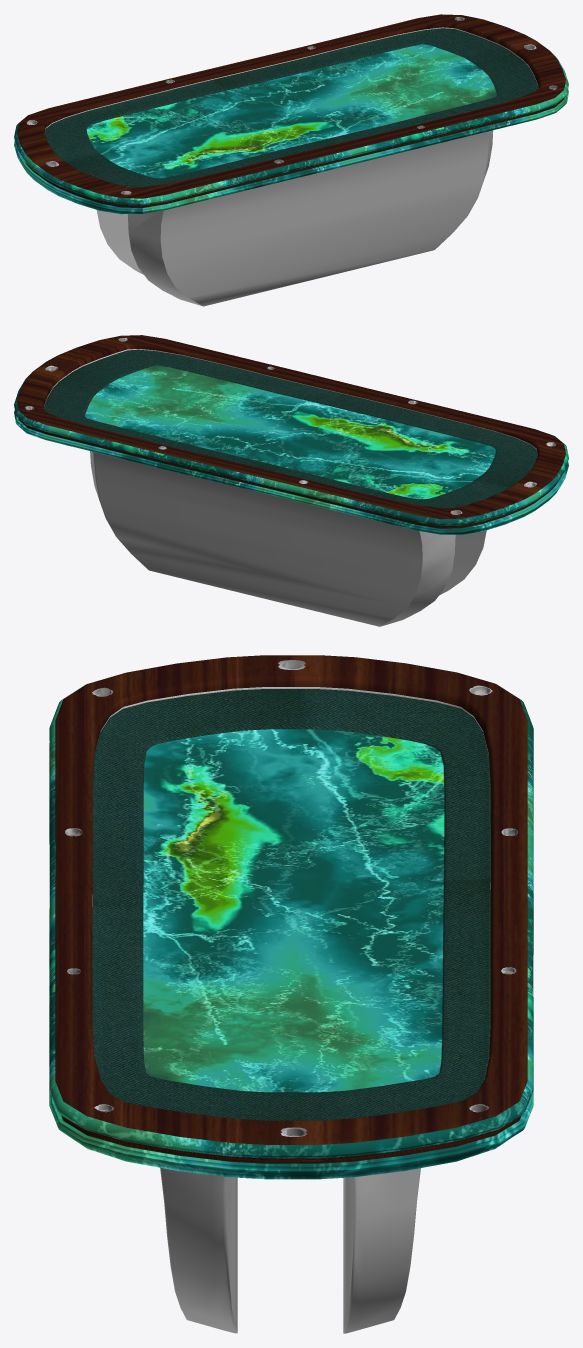
File: leonard-garcia-table.glb
3 views of the same model, one above another, from view 1: azimuth 30°, elevation 25°; view 2: azimuth 150°, elevation 25°; view 3: azimuth 270°, elevation 25° (orthographic). The views are drawn at different scales.
Parts seen in each view (by area): view 1: Table_Legs_UV_Metal_Legs_0, Table_Top_Dup_aiStandardSurface1_0, Table_Top_Dup_Wood_Top_Mat_0, Table_Top_Dup_Green_Tweed_Top_0, Table_Top_Dup_Wood_Trim_0, Table_Top_Dup_Border_Blach_0; view 2: Table_Legs_UV_Metal_Legs_0, Table_Top_Dup_aiStandardSurface1_0, Table_Top_Dup_Wood_Top_Mat_0, Table_Top_Dup_Green_Tweed_Top_0, Table_Top_Dup_Wood_Trim_0, Table_Top_Dup_Border_Blach_0; view 3: Table_Top_Dup_aiStandardSurface1_0, Table_Top_Dup_Green_Tweed_Top_0, Table_Top_Dup_Wood_Top_Mat_0, Table_Legs_UV_Metal_Legs_0, Table_Top_Dup_Wood_Trim_0, Table_Top_Dup_Cup_Holder1_0, Table_Top_Dup_Border_Blach_0.
Part boxes in pixels (<box>): Table_Legs_UV_Metal_Legs_0: <box>96,130,493,306</box>; Table_Top_Dup_aiStandardSurface1_0: <box>14,14,568,214</box>; Table_Top_Dup_Wood_Top_Mat_0: <box>17,14,565,198</box>; Table_Top_Dup_Green_Tweed_Top_0: <box>45,28,538,187</box>; Table_Top_Dup_Wood_Trim_0: <box>26,98,564,207</box>; Table_Top_Dup_Border_Blach_0: <box>44,27,538,133</box>; Table_Legs_UV_Metal_Legs_0: <box>90,451,486,626</box>; Table_Top_Dup_aiStandardSurface1_0: <box>14,363,568,534</box>; Table_Top_Dup_Wood_Top_Mat_0: <box>17,335,565,519</box>; Table_Top_Dup_Green_Tweed_Top_0: <box>44,349,537,507</box>; Table_Top_Dup_Wood_Trim_0: <box>18,418,556,528</box>; Table_Top_Dup_Border_Blach_0: <box>43,349,536,449</box>; Table_Top_Dup_aiStandardSurface1_0: <box>49,684,533,1179</box>; Table_Top_Dup_Green_Tweed_Top_0: <box>92,689,490,1120</box>; Table_Top_Dup_Wood_Top_Mat_0: <box>55,655,527,1162</box>; Table_Legs_UV_Metal_Legs_0: <box>143,827,444,1333</box>; Table_Top_Dup_Wood_Trim_0: <box>61,1116,521,1163</box>; Table_Top_Dup_Cup_Holder1_0: <box>65,660,517,1136</box>; Table_Top_Dup_Border_Blach_0: <box>92,687,490,1057</box>.
Bounding box in the file's own units: 4.99 × 1.45 × 2.07.
Materials: 8 (5 with a texture image).
